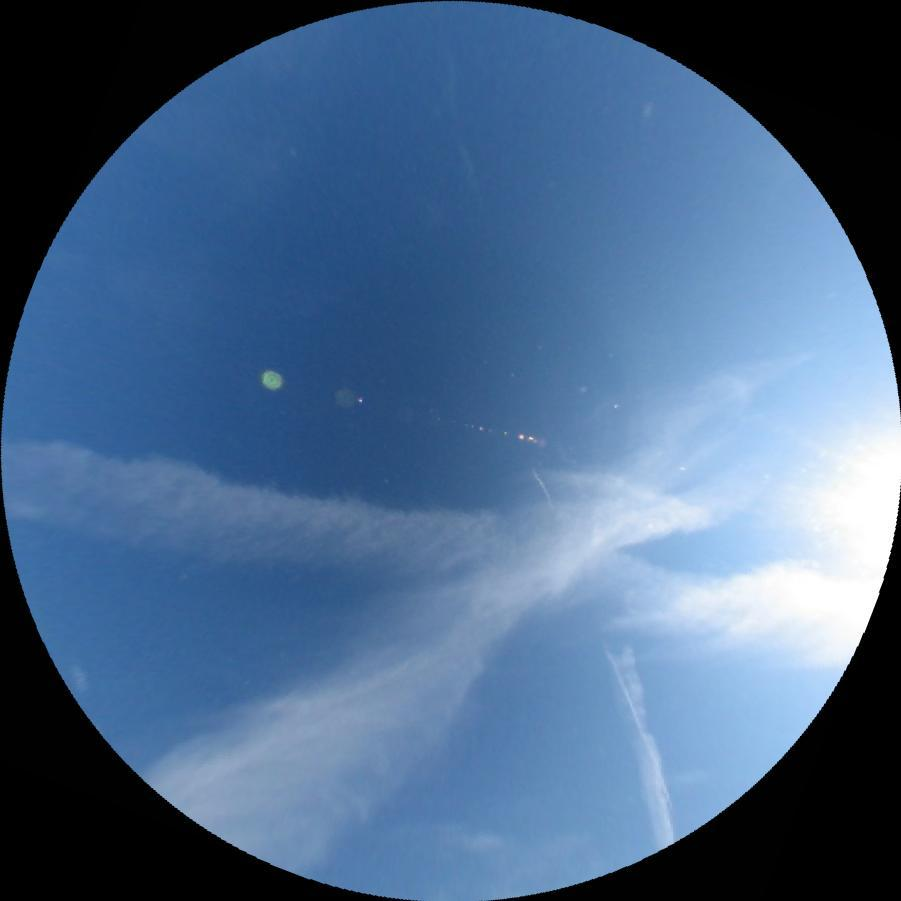contrail old: (528, 467, 647, 743)
contrail veryold: (611, 646, 680, 851)
